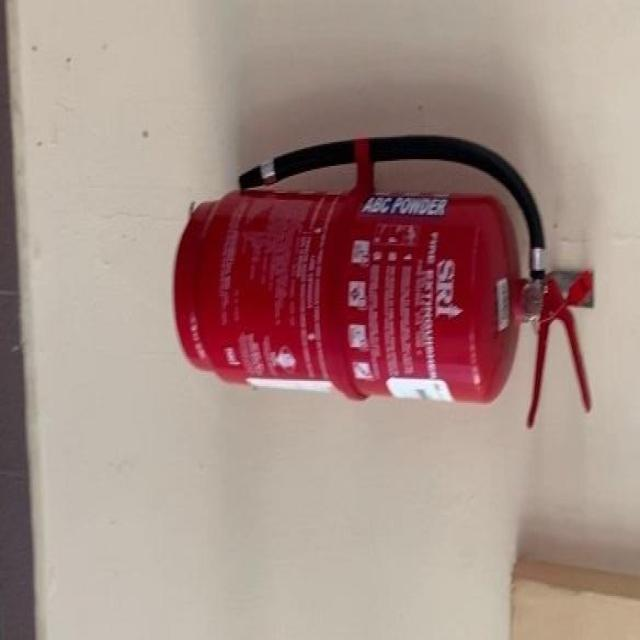fire_extinguisher: (169, 125, 598, 432)
